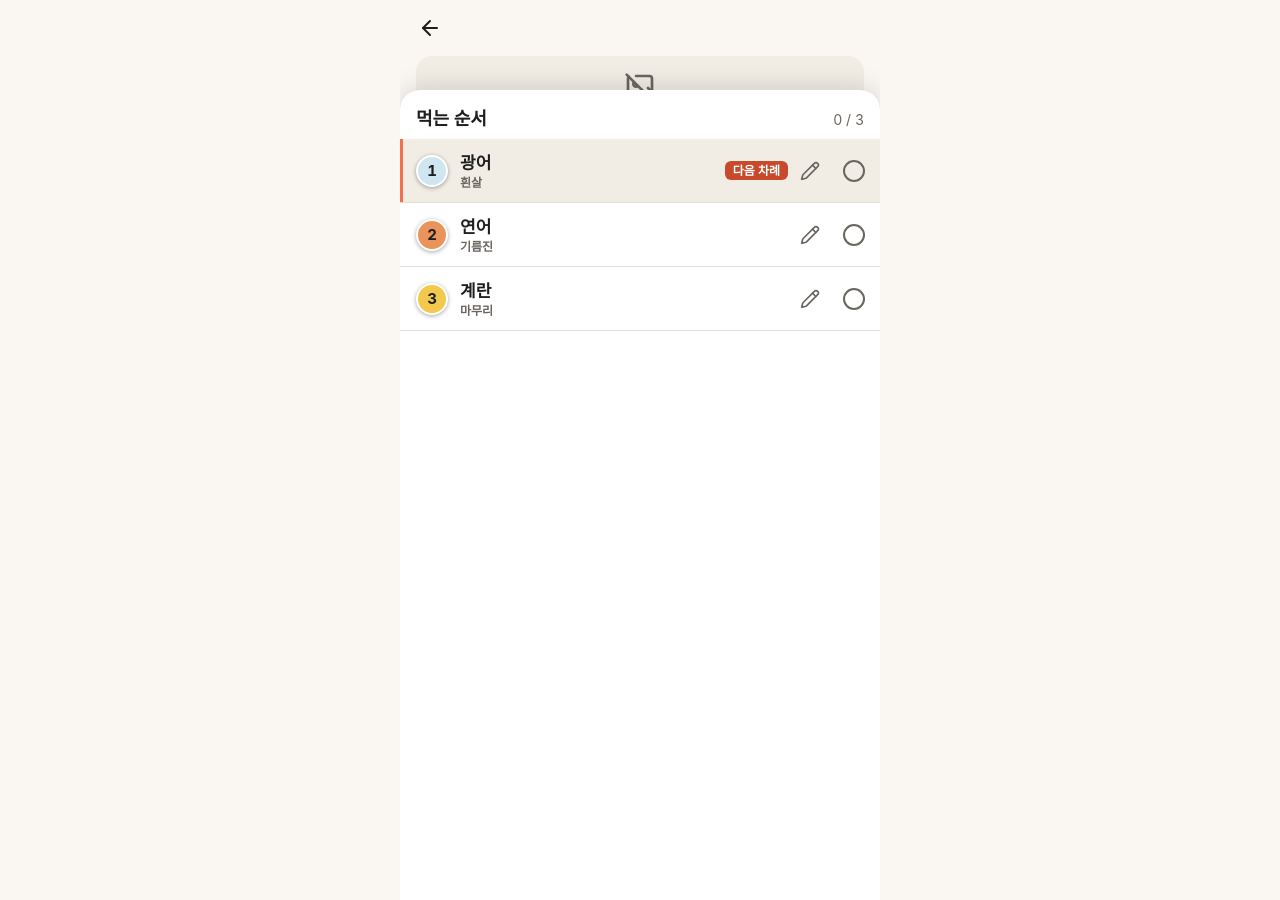
Test: ResultPage › F6-3 수정 저장이 실패하면 스냅샷으로 복원한다 (E2E-06b)
Press the mouse on the button "1 광어 흰살 다음 차례": (432, 171) [416,153,788,190]
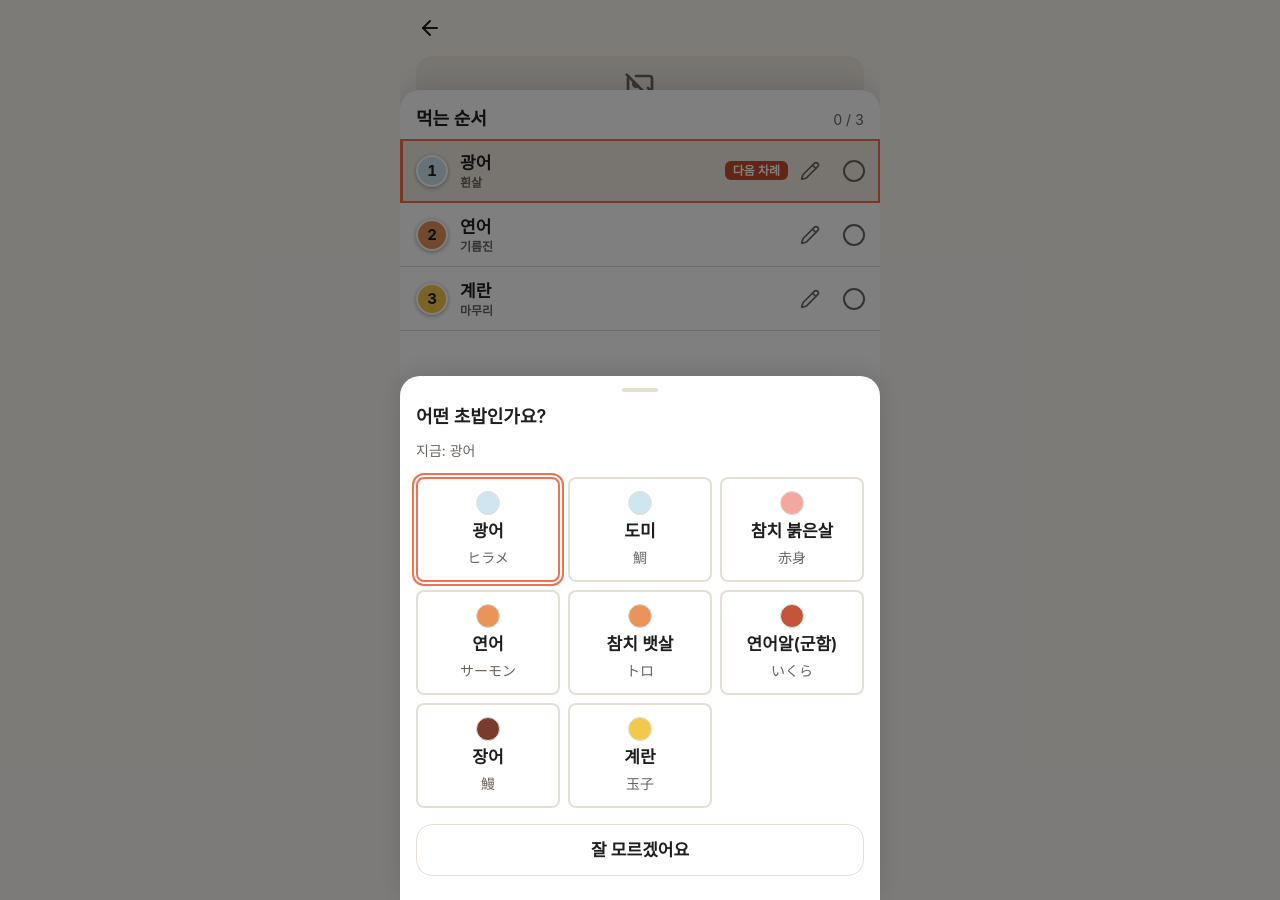
Click the button "참치 뱃살 トロ": (640, 643) [568,590,712,695]
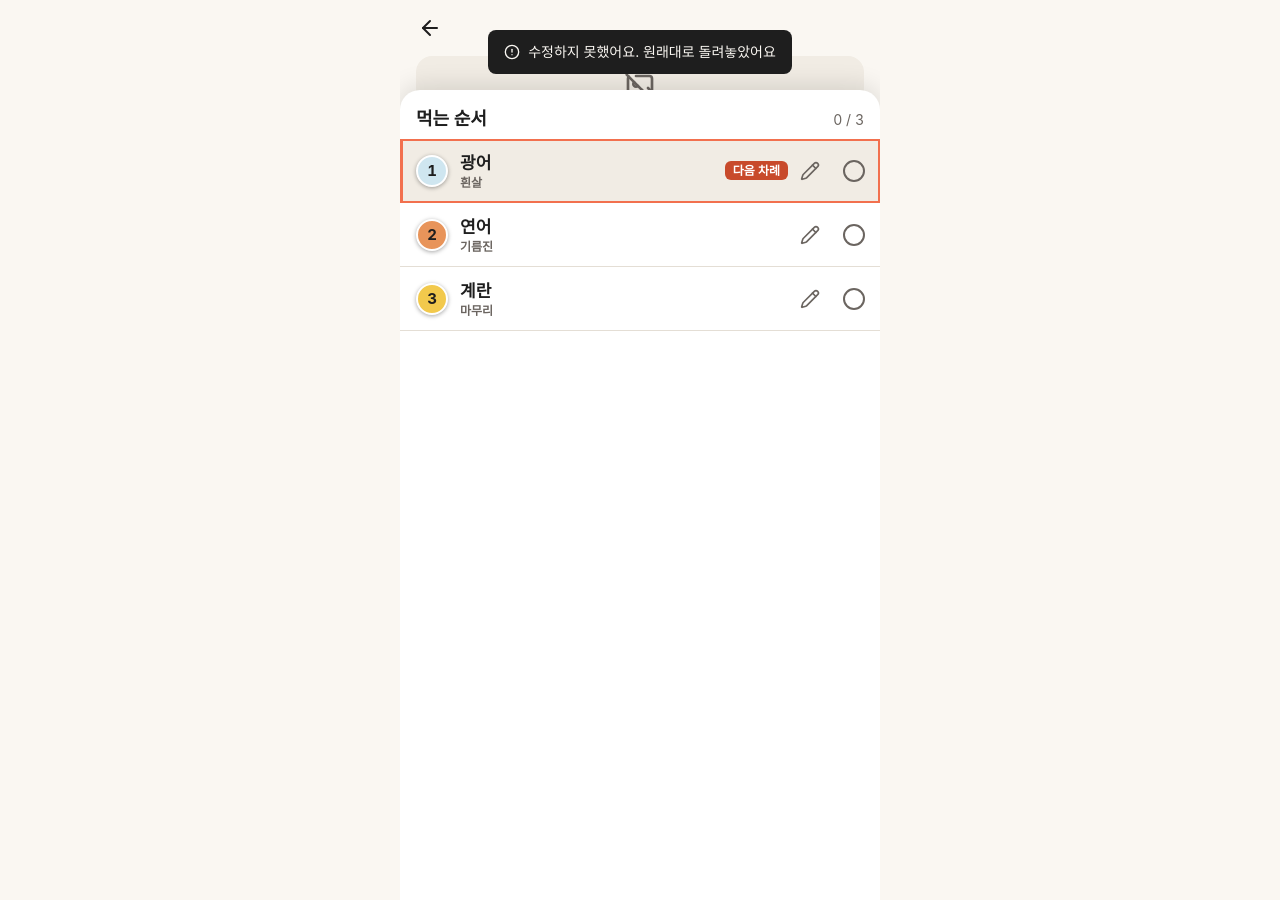
Expected: the text "수정하지 못했어요. 원래대로 돌려놓았어요" is shown, [528,42,776,62]
